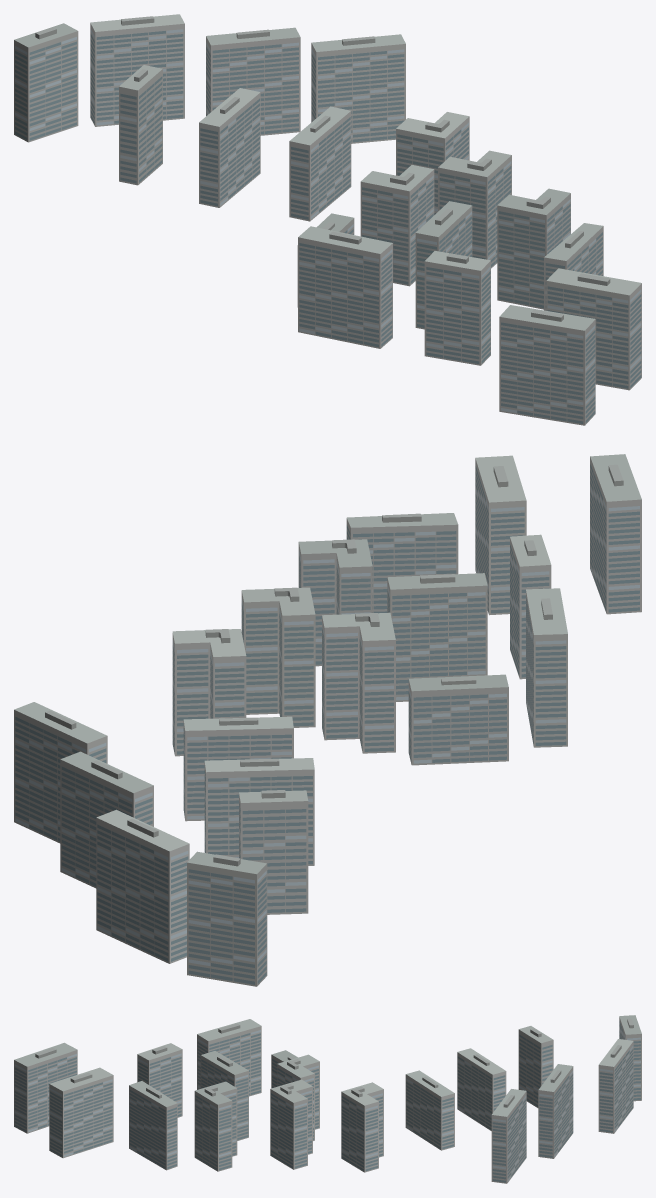
File: apt-a15101504.glb
The picture shows the model from 3 angles, top to bottom: view 1: azimuth 30°, elevation 25°; view 2: azimuth 150°, elevation 25°; view 3: azimuth 270°, elevation 25°; orthographic projection. The views are drawn at different scales.
Visible parts, largest first — view 1: apt-a15101504; view 2: apt-a15101504; view 3: apt-a15101504.
Boxes of the visible parts, box(x1,y1,x2,y2) form: apt-a15101504: box(14, 14, 641, 425); apt-a15101504: box(14, 454, 641, 986); apt-a15101504: box(14, 1015, 641, 1183).
Size of the model in its own units: 175 by 56 by 456.
